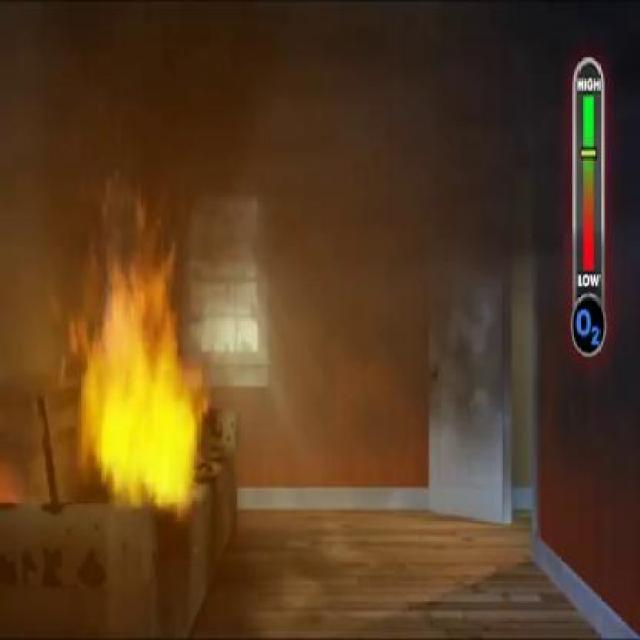fire: (68, 264, 218, 486)
smoke: (419, 1, 573, 342), (1, 2, 306, 158)
